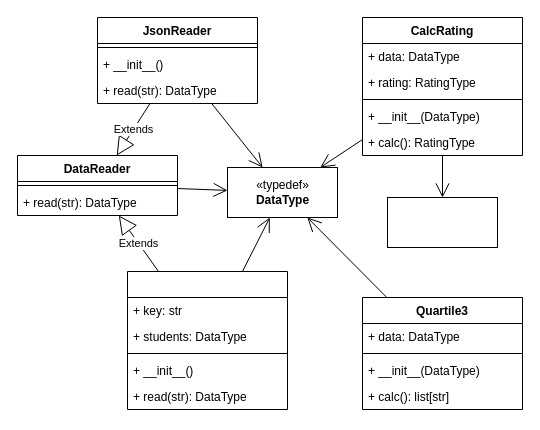
This 540x430 diagram has some shape labels left out. The shapes that lost their labels are listed below. From the top down, each one's box as (x1, y1, x2, y2) in pixels, then its label:
(386, 196, 498, 248): «typedef» ResultType
(126, 270, 288, 410): TextDataReader
